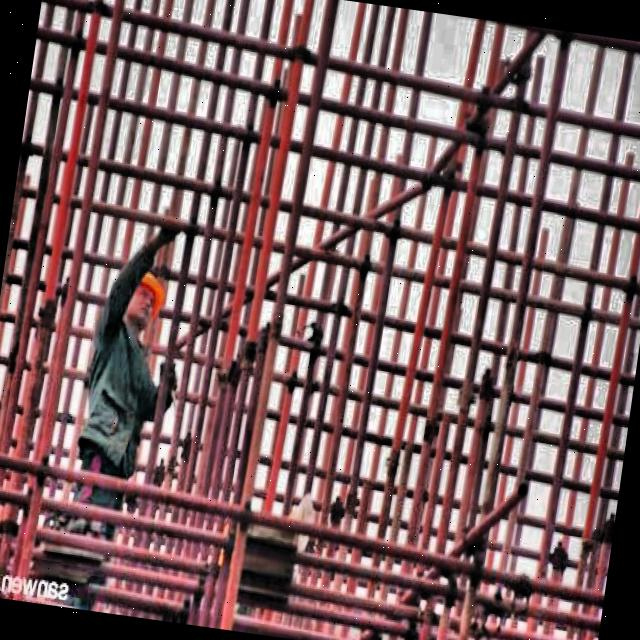helmet: (112, 261, 172, 342)
